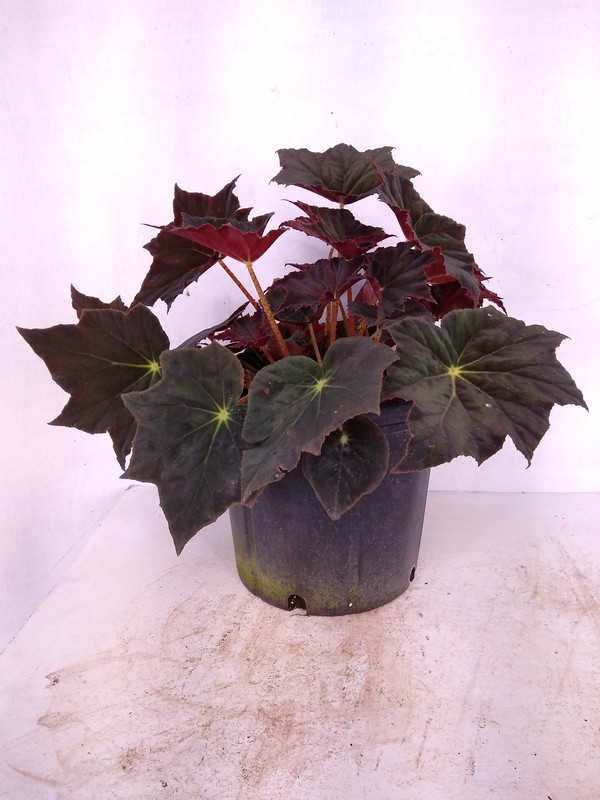plant: (15, 139, 590, 566)
pot: (218, 402, 433, 619)
